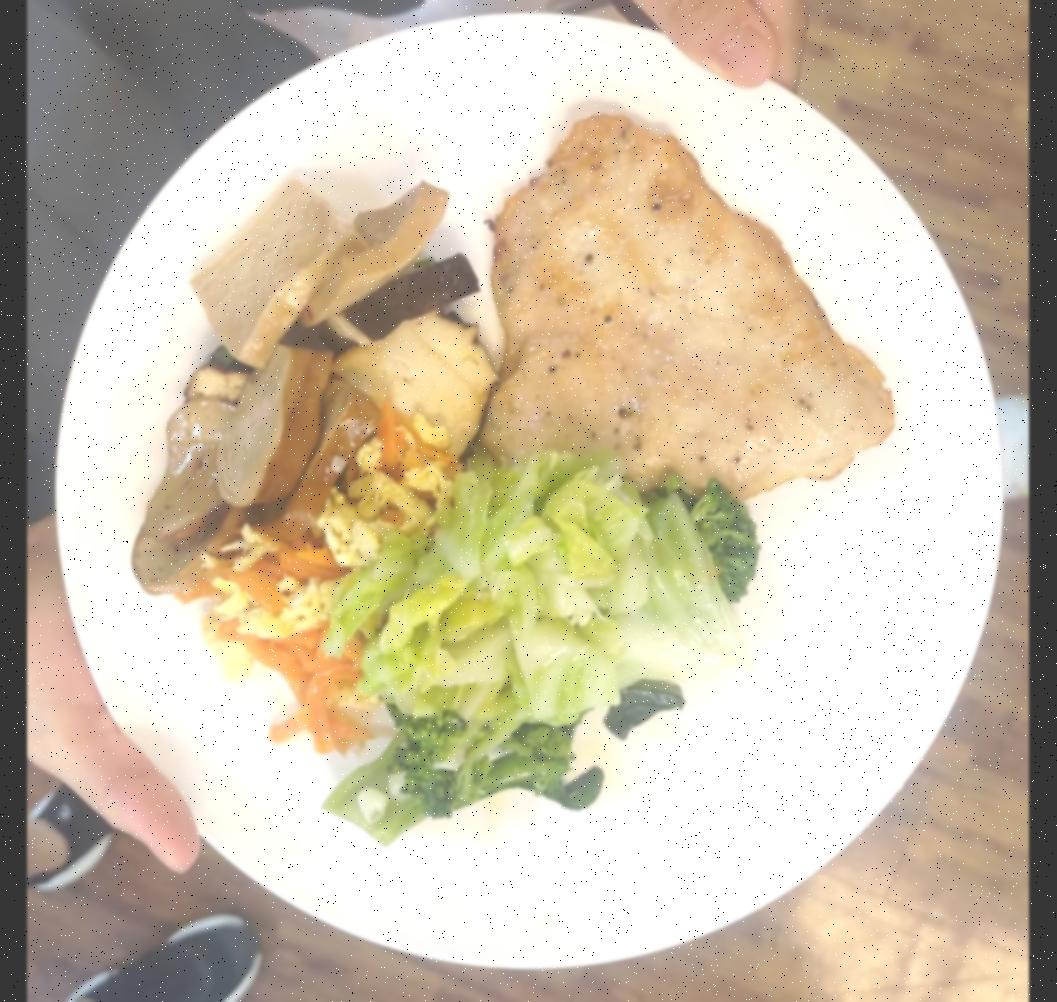grilled chicken steak: (466, 98, 902, 508)
plate: (53, 10, 1014, 984)
side dish: (121, 176, 486, 590), (330, 464, 724, 718), (195, 433, 450, 750), (318, 710, 606, 838)
